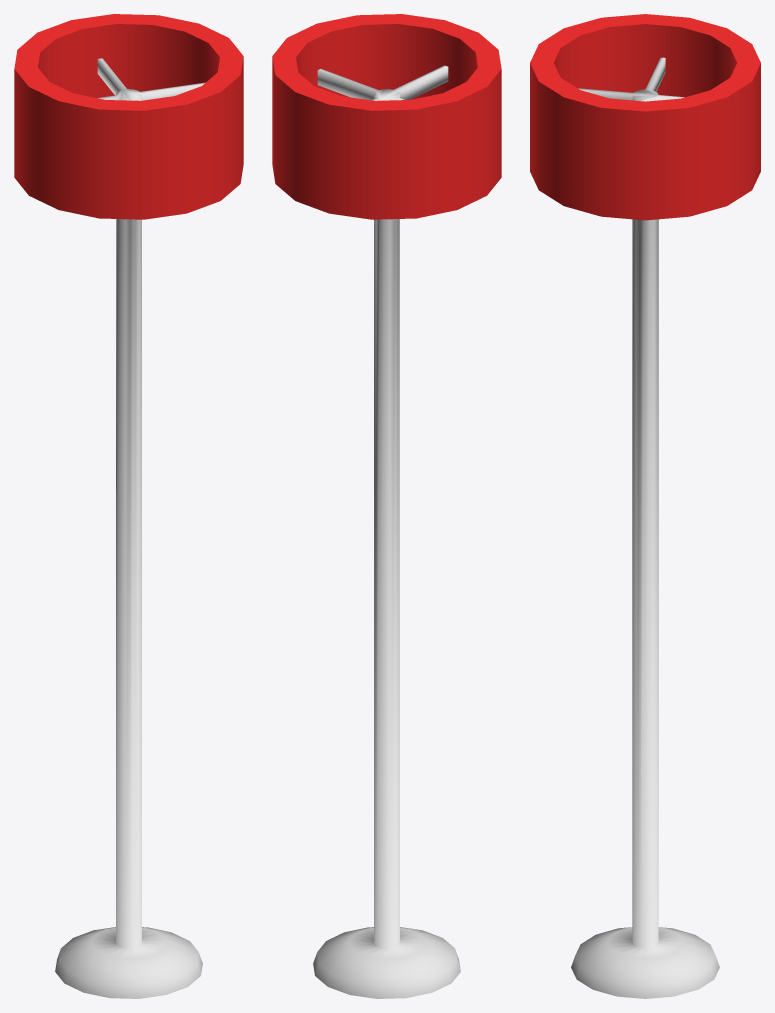
The model's file is Lamp_1.fbx.
3 renders of one model, left to right at view 1: azimuth 30°, elevation 25°; view 2: azimuth 150°, elevation 25°; view 3: azimuth 270°, elevation 25°, orthographic.
Visible parts, largest first — view 1: Lamp_1; view 2: Lamp_1; view 3: Lamp_1.
Boxes of the visible parts, x1=… form: Lamp_1: x1=14, y1=14, x2=243, y2=998; Lamp_1: x1=272, y1=14, x2=501, y2=998; Lamp_1: x1=530, y1=14, x2=760, y2=998.
Bounding box in the file's own units: 35.02 × 151 × 35.02.
